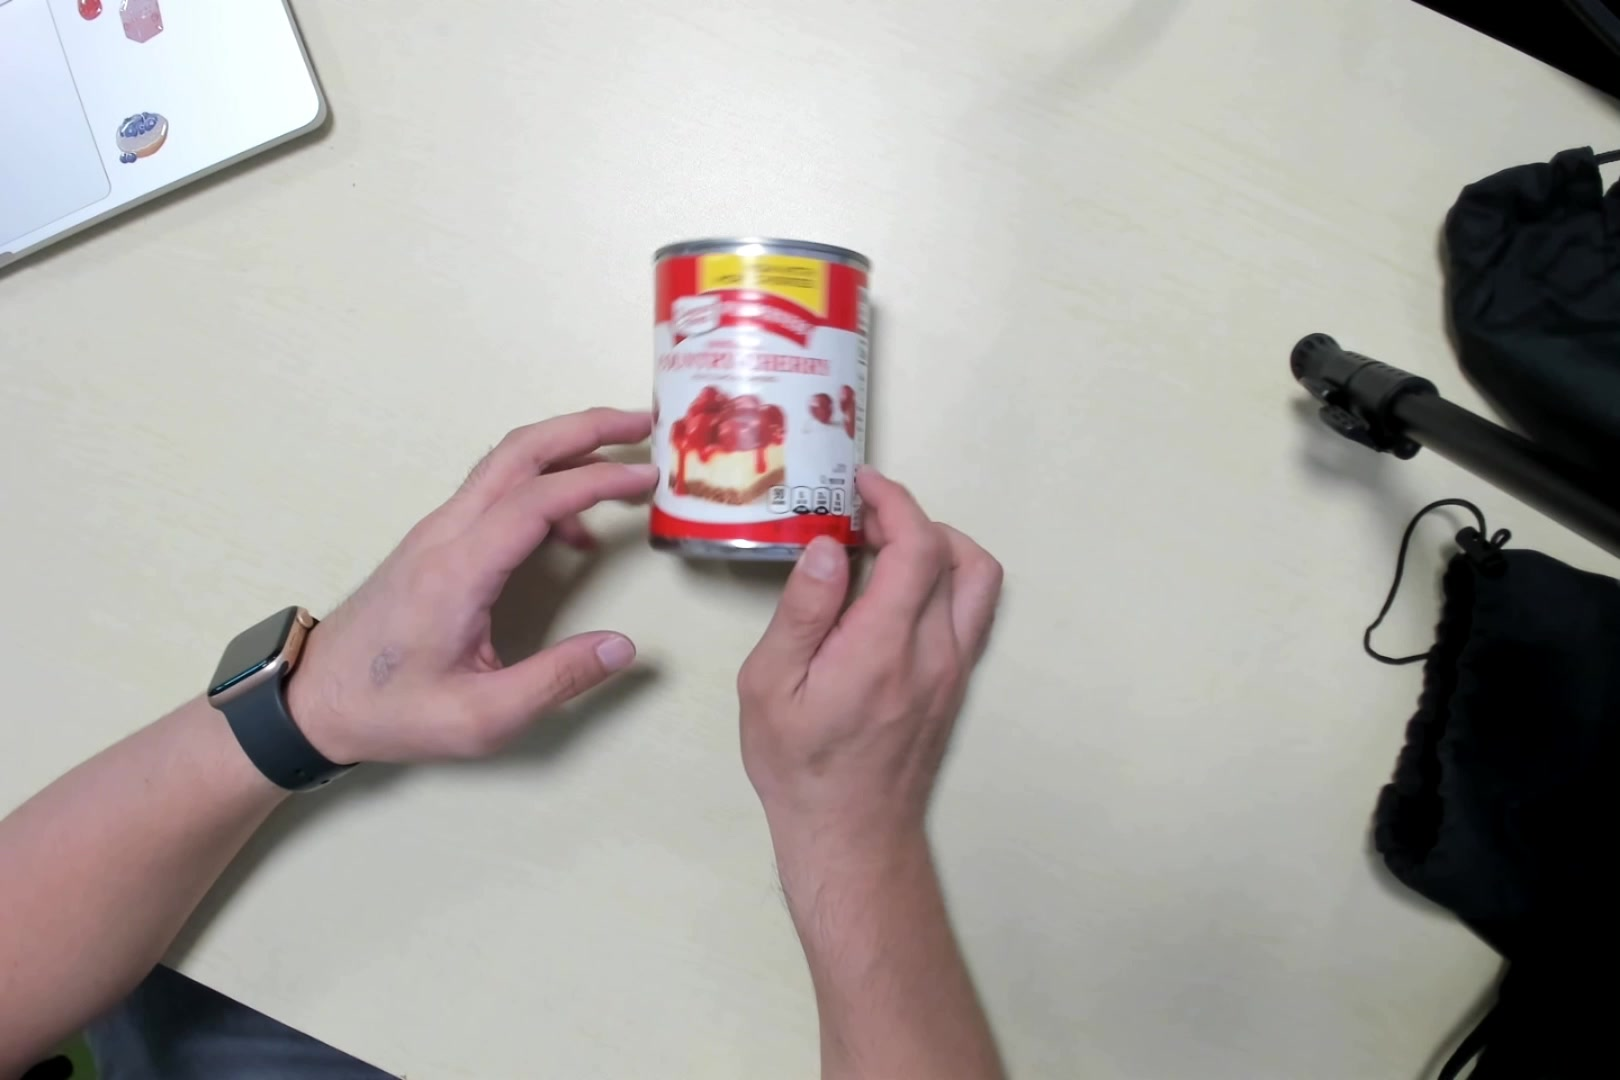OtherBakingNeeds_500-599g_NonHalal_NonHealthy: (657, 231, 877, 564)
